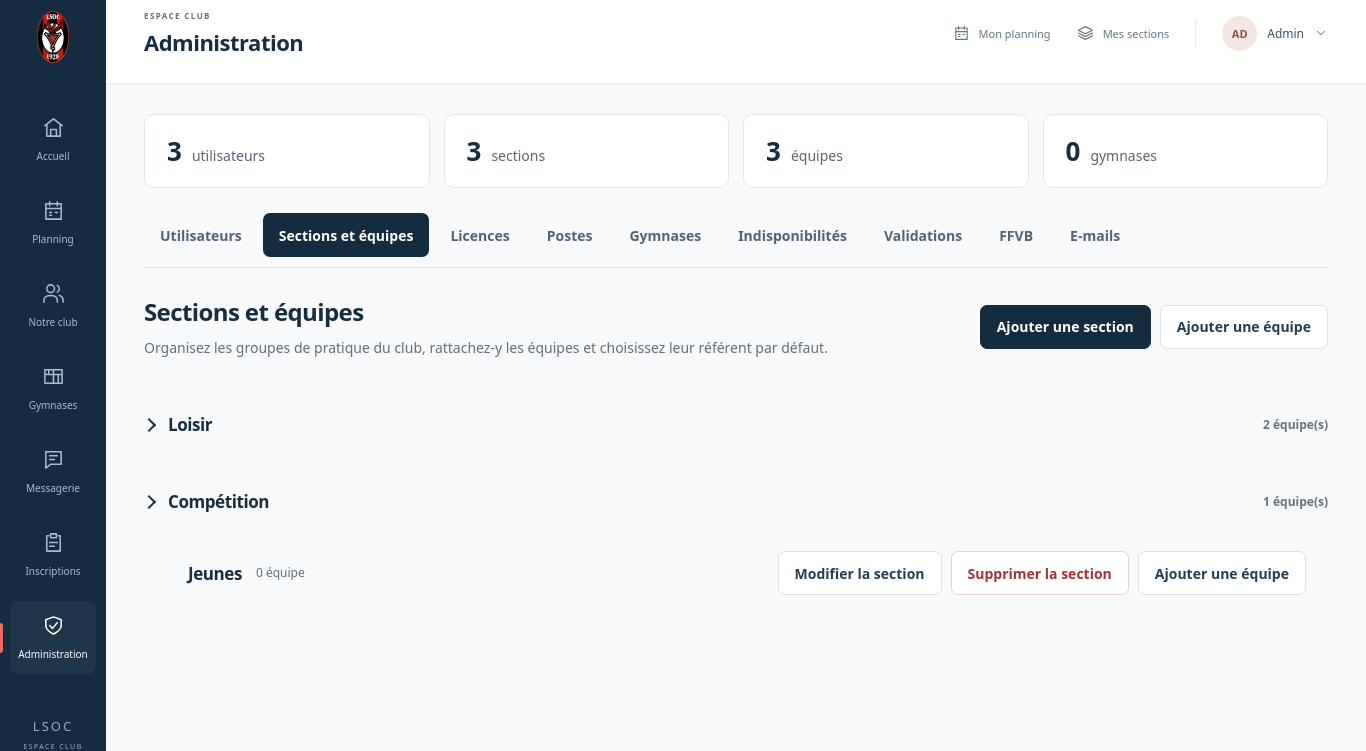
Test case: regroupe les équipes dans des sections dépliables
Expected: the link does not show "Équipes"
Expected: the text "2 équipe(s)" is shown, [1263,415,1328,435]
What coordinates should you click on to do the following:
click the heading "Loisir"
I would click on:
 (190, 425)
Its box is [168,413,212,436].
(page scrolled)
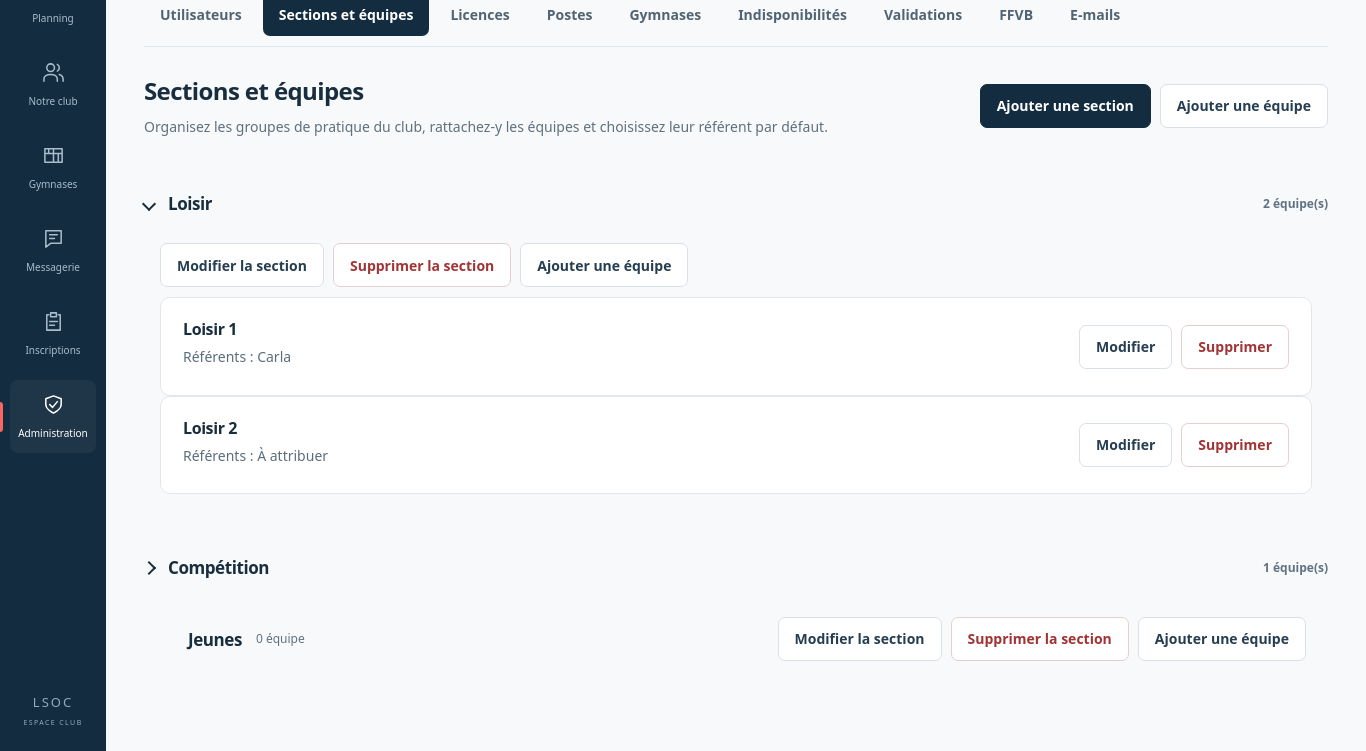
Expected: the text "0 équipe" is shown, [256,629,305,649]
Expected: the text "Référents : Carla" is shown, [183,346,291,369]
Expected: the text "Référents : À attribuer" is shown, [183,445,328,467]
